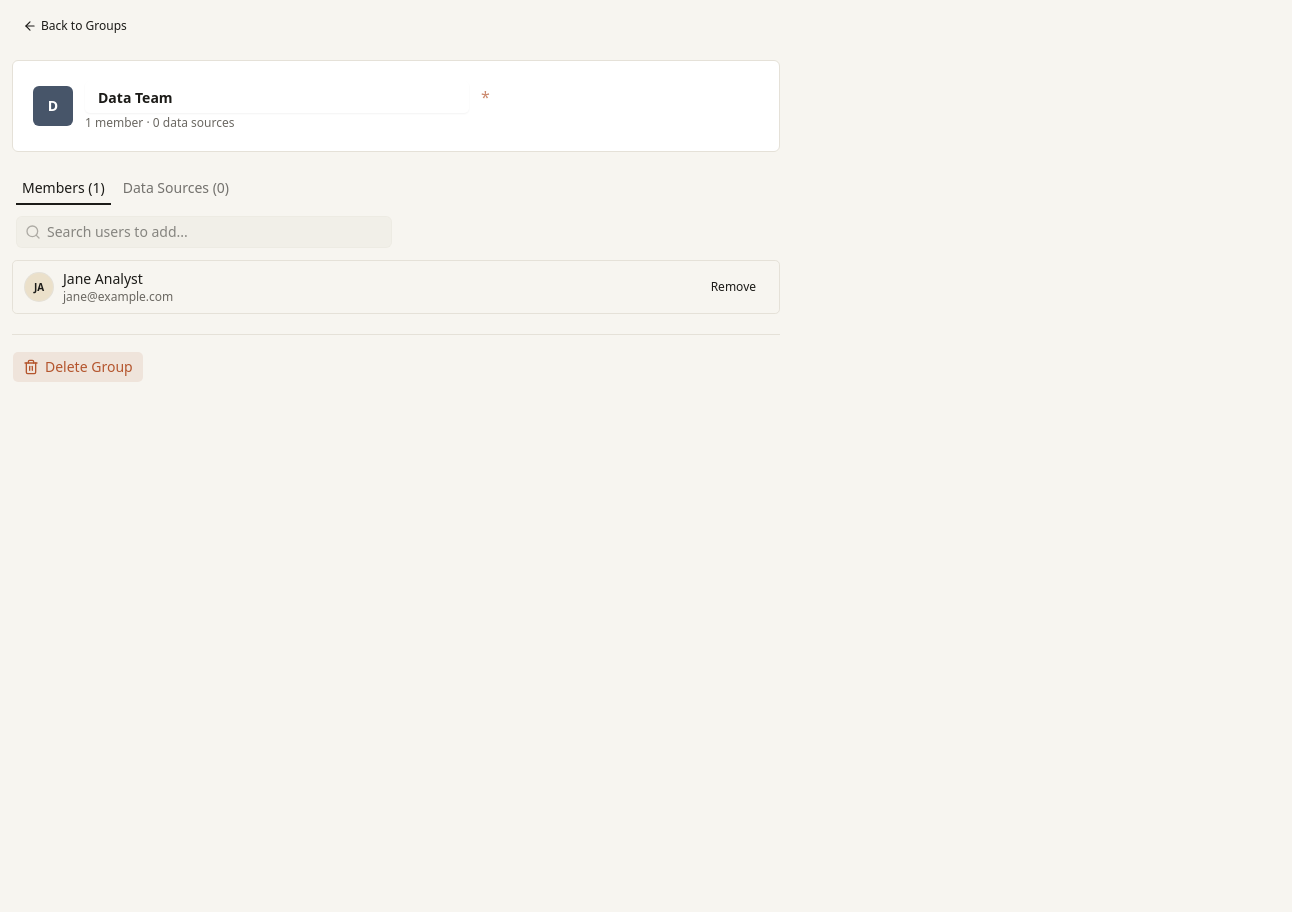
Test: GroupDetail rename › offers Save only once the name has actually changed, and posts the new name
The image size is (1292, 912).
Expected: the button "Save" is not shown
Replace the text in the field showing "Data Team" with "Platform Team": (277, 97) top-left (85, 81), bottom-right (469, 113)
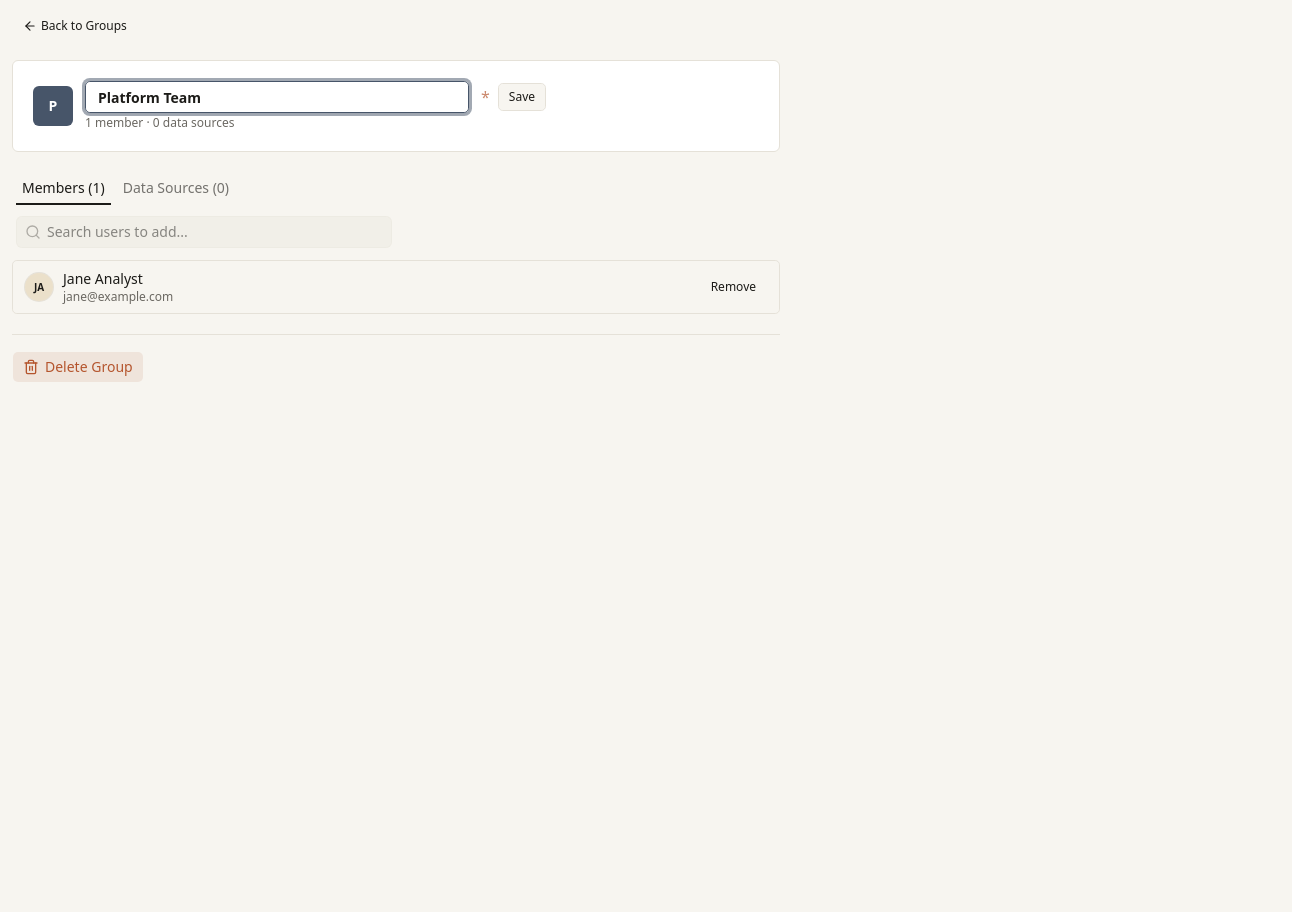
Click the button "Save": (522, 97) top-left (498, 83), bottom-right (546, 111)
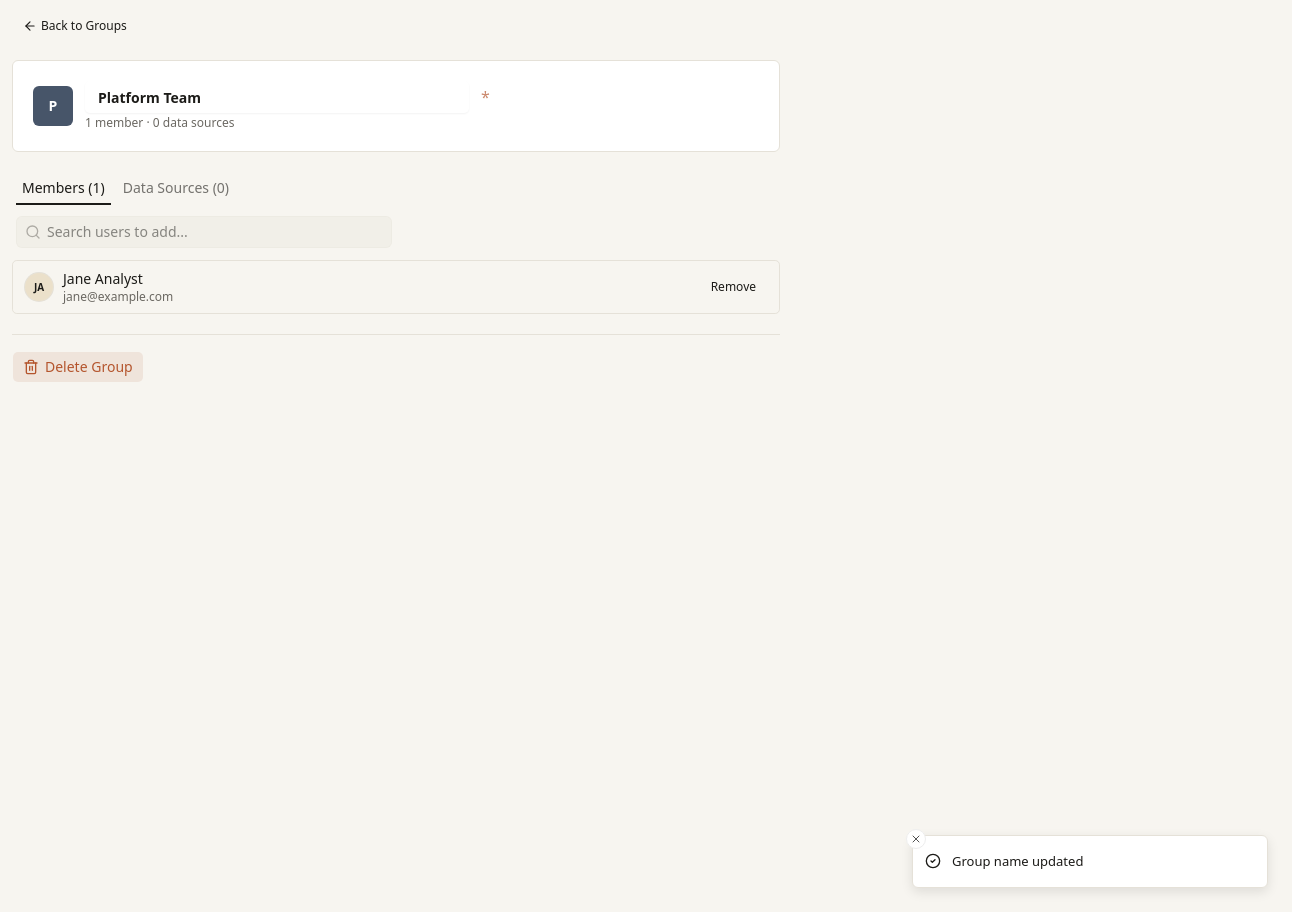
Now the button "Save" is gone
